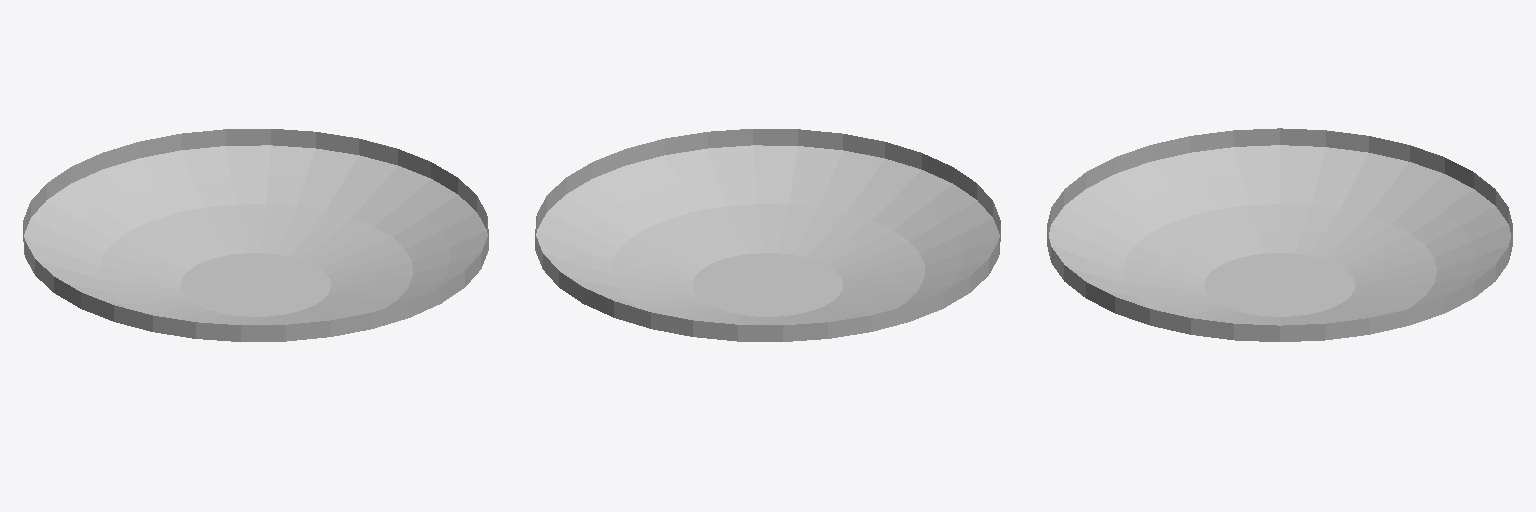
File: dew_stalker_ground.obj
3 views of the same model, side by side, from view 1: azimuth 30°, elevation 25°; view 2: azimuth 150°, elevation 25°; view 3: azimuth 270°, elevation 25° (orthographic).
Visible parts, largest first — view 1: Circle.001; view 2: Circle.001; view 3: Circle.001.
Part boxes in pixels (x1,y1,x2,y2): Circle.001: (23,129,488,341); Circle.001: (535,129,1000,341); Circle.001: (1047,128,1512,341).
Bounding box in the file's own units: 2.2 × 0.3011 × 2.2.